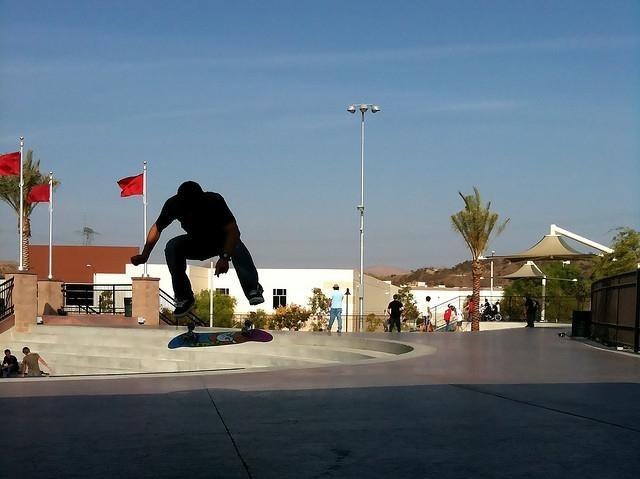bicycle: (483, 309, 502, 322)
